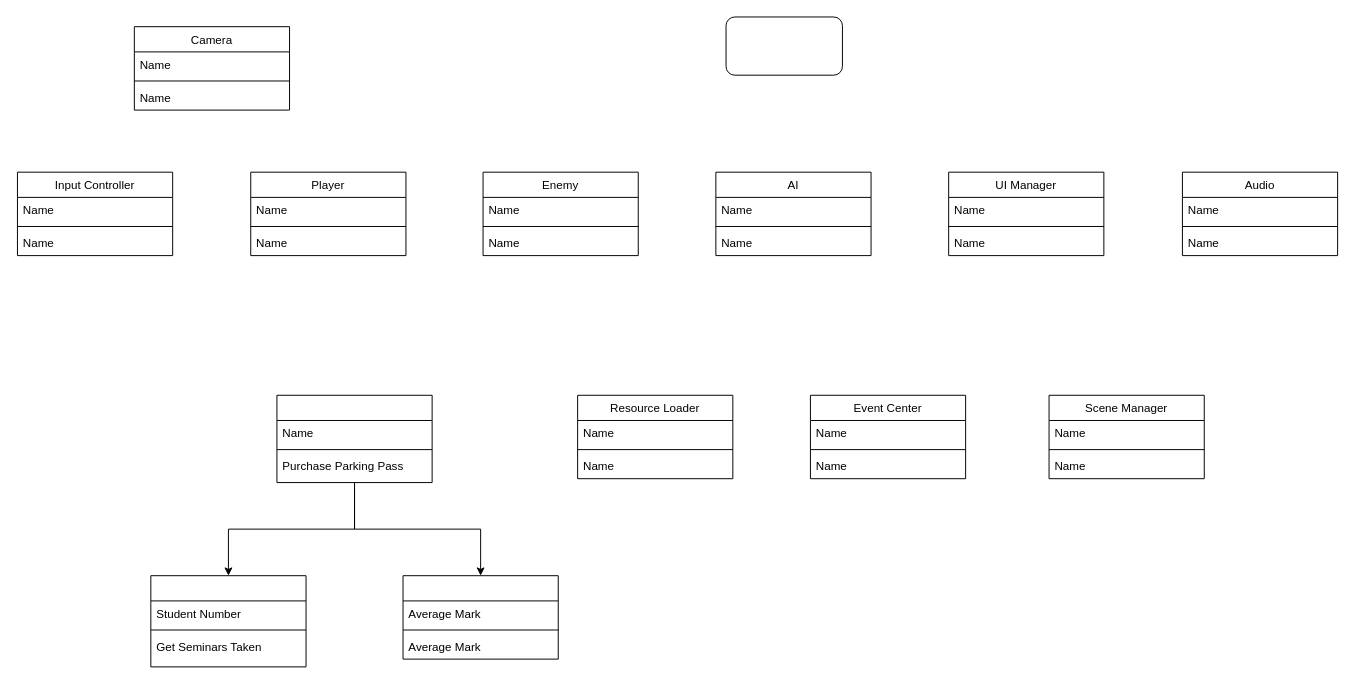
The diagram is 1354 pixels wide and 684 high, and some of its shapes have lost their labels. The shapes that lost their labels are listed below. From the top down, each one's box as (x1, y1, x2, y2) in pixels, then its label:
(725, 16, 842, 75): GhostLoope
(276, 394, 432, 483): Pool Manager
(150, 575, 306, 667): Bullet Pool
(402, 575, 558, 659): Enemy Pool
